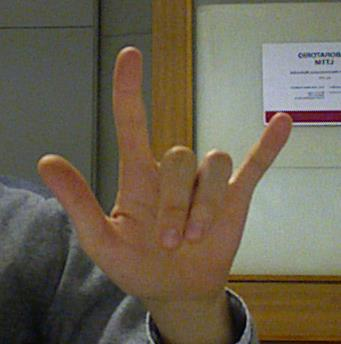back: (34, 45, 302, 294)
